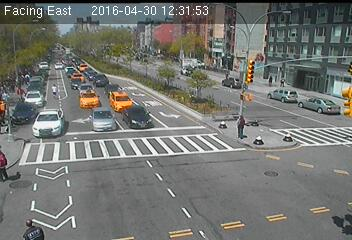neg: (97, 91, 125, 129), (187, 181, 214, 218), (241, 58, 267, 93), (144, 134, 167, 166), (321, 196, 344, 226), (282, 122, 304, 151), (295, 80, 315, 107), (299, 24, 318, 50), (125, 34, 144, 58), (166, 56, 183, 78), (12, 66, 28, 87), (250, 131, 266, 151), (61, 65, 75, 83), (189, 93, 202, 110), (99, 39, 110, 55)
pos: (225, 111, 246, 139)
